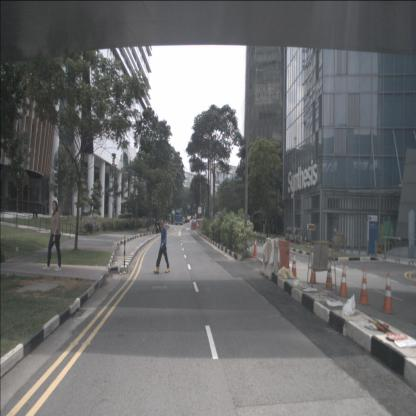barrier: (260, 238, 279, 281), (273, 239, 291, 276), (191, 221, 194, 230)
cone: (380, 272, 396, 314), (357, 267, 371, 306), (336, 263, 350, 297), (324, 258, 334, 290), (291, 252, 297, 278), (310, 259, 316, 283), (252, 237, 258, 257), (285, 234, 288, 242), (304, 236, 306, 245), (196, 223, 199, 229), (294, 235, 296, 244), (300, 235, 302, 244), (289, 234, 291, 242)
